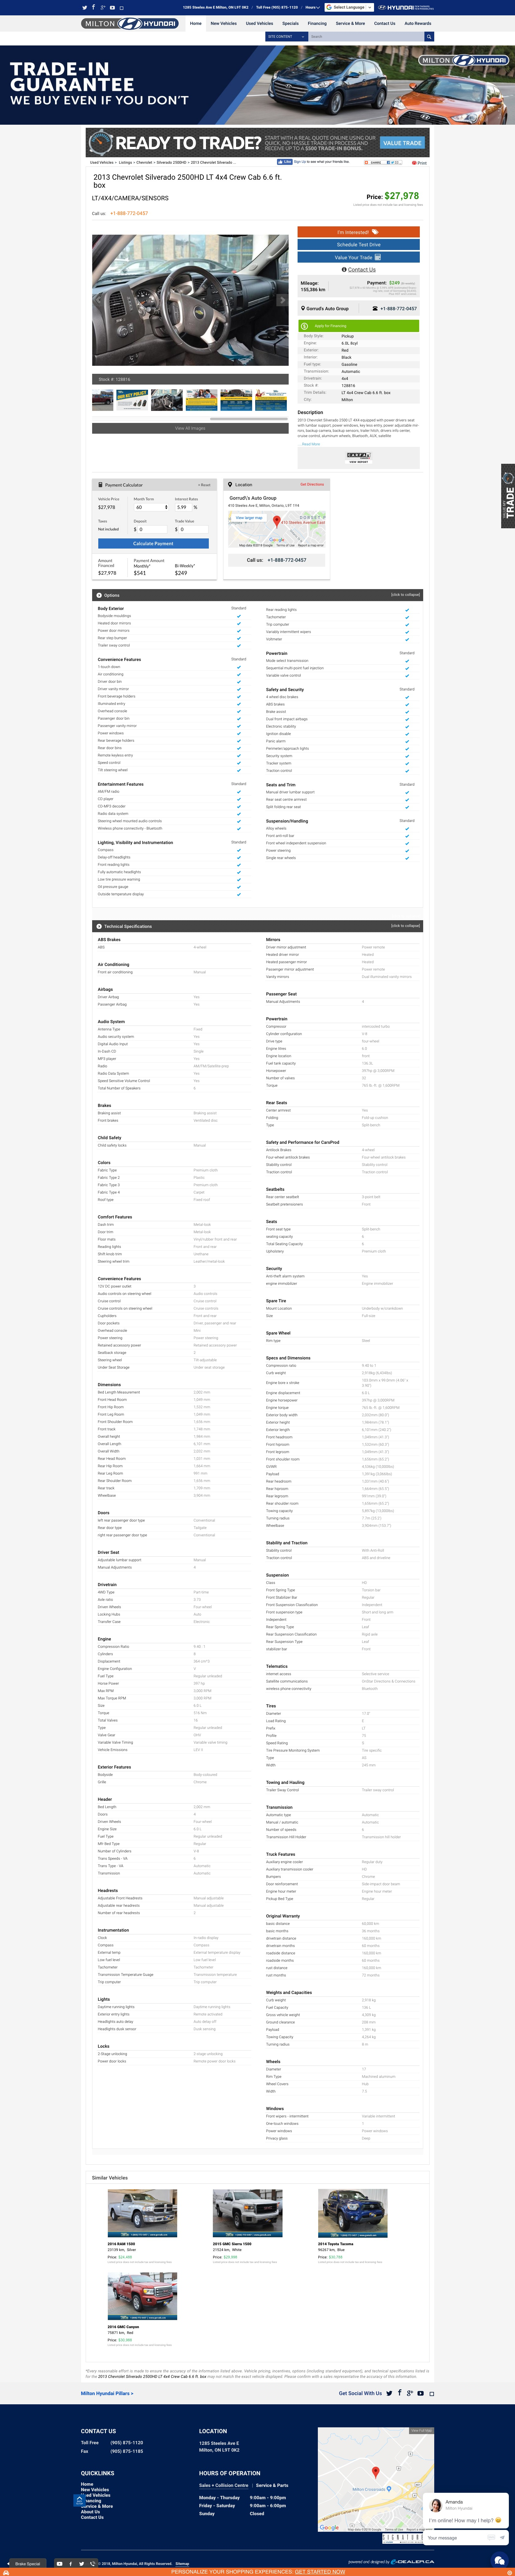car: (276, 294, 290, 307)
